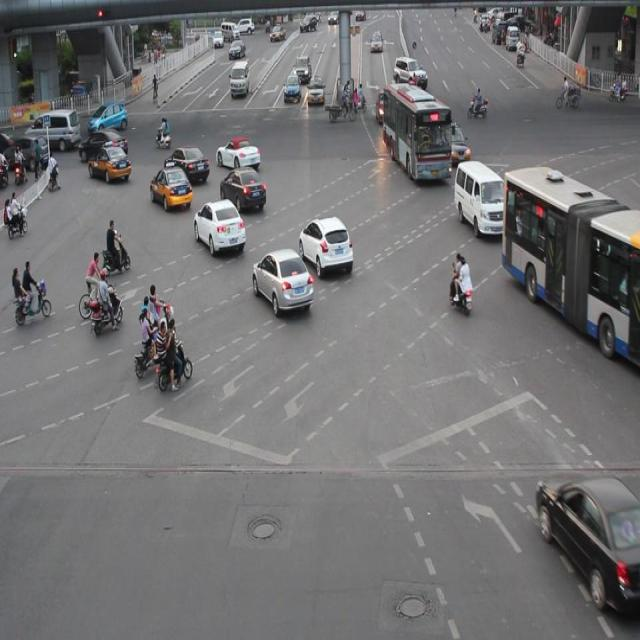car: (534, 469, 640, 613), (252, 247, 313, 312), (297, 213, 353, 276), (194, 196, 247, 253), (219, 165, 267, 212), (149, 164, 192, 209), (163, 145, 210, 186), (79, 127, 128, 162), (88, 144, 132, 182), (217, 136, 260, 172), (440, 122, 470, 164)
truck: (453, 160, 506, 236)
van: (501, 167, 640, 369), (382, 83, 449, 182)
